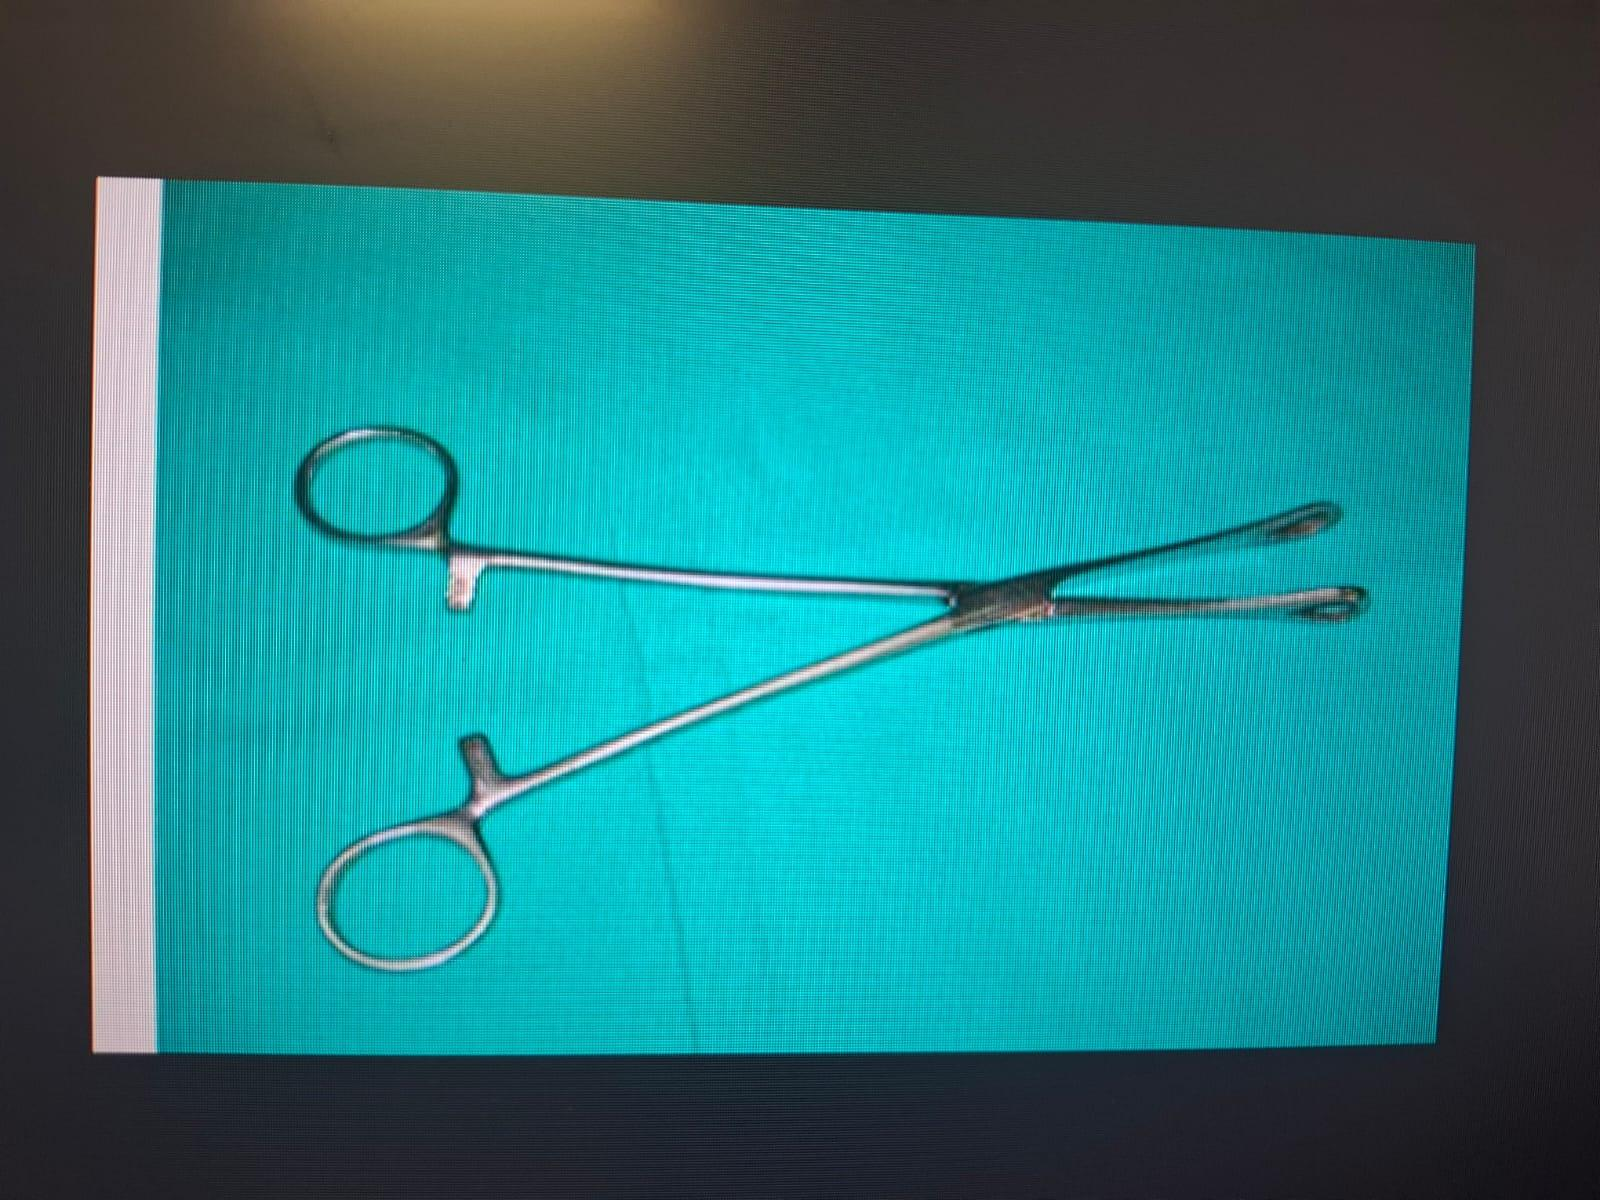Sponge Holding Forceps: (260, 412, 1396, 984)
